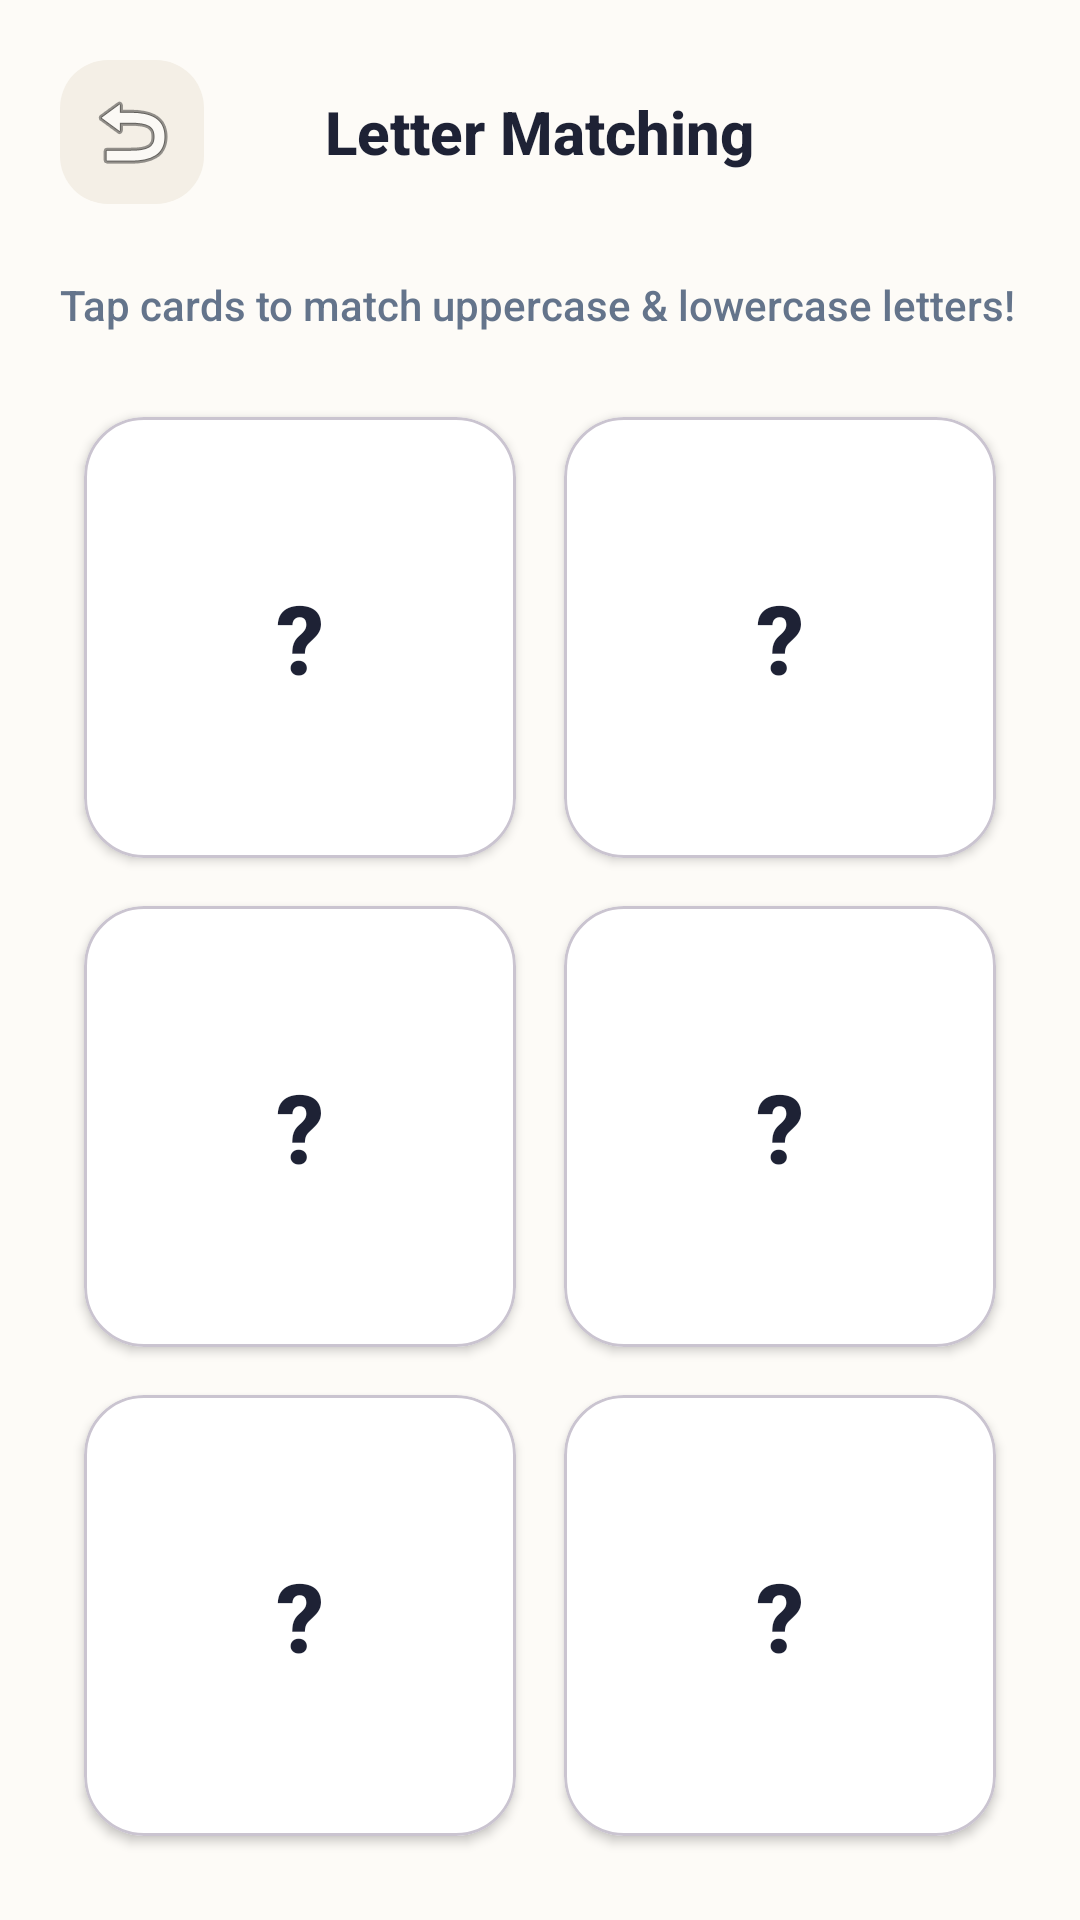

Icons on this 1080*1920 Android screen, each with its box as region(x1, y1, x2, y2):
Back: region(60, 60, 204, 204)
